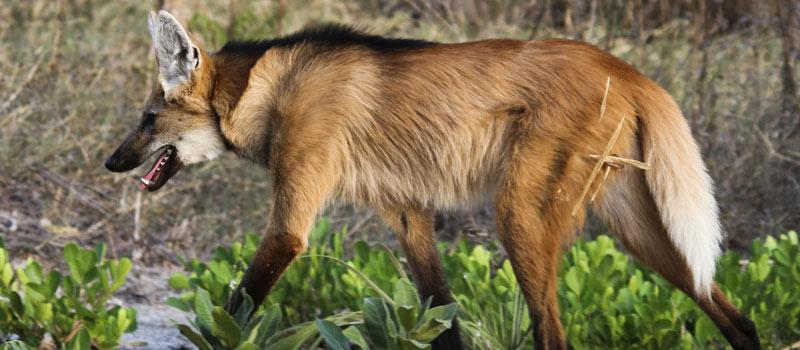LoboGuara: (95, 7, 768, 338)
